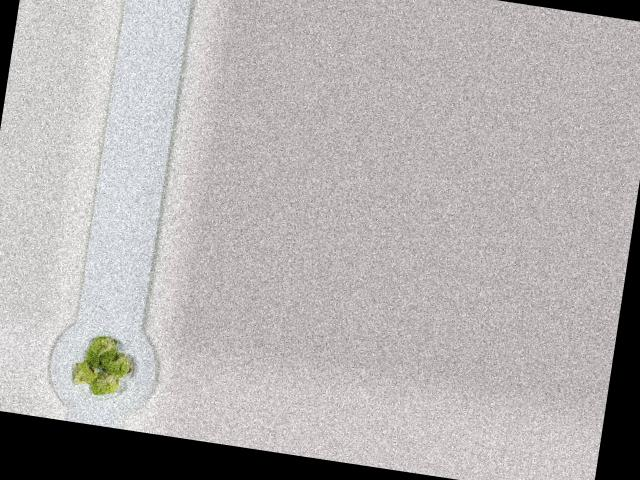lettuce: (69, 326, 139, 398)
